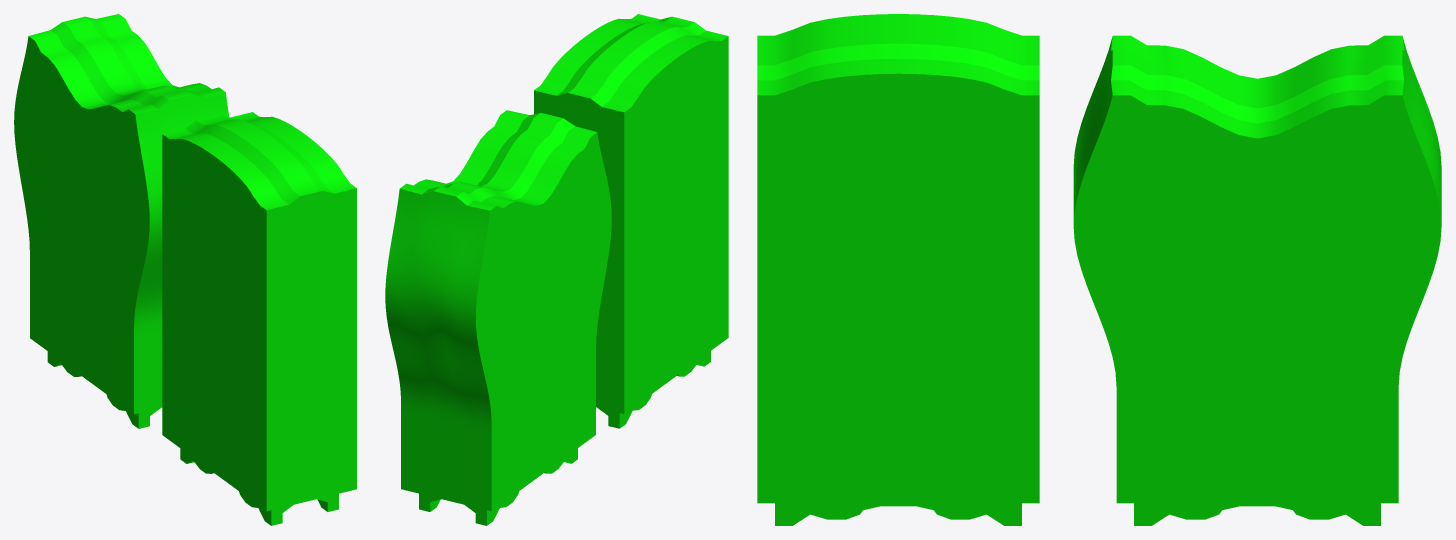
The model's file is Armariosfbx.fbx.
3 views of the same model, side by side, from view 1: azimuth 30°, elevation 25°; view 2: azimuth 150°, elevation 25°; view 3: azimuth 270°, elevation 25° (orthographic). The views are drawn at different scales.
Parts seen in each view (by area): view 1: Armario_C, Armario_P; view 2: Armario_P, Armario_C; view 3: Armario_P, Armario_C.
Boxes of the visible parts, x1,y1,x2,y2 form: Armario_C: [162, 112, 356, 525]; Armario_P: [14, 14, 229, 428]; Armario_P: [385, 110, 611, 525]; Armario_C: [534, 14, 728, 428]; Armario_P: [1073, 35, 1441, 525]; Armario_C: [757, 14, 1039, 525].
Bounding box in the file's own units: 60 × 219 × 290.
